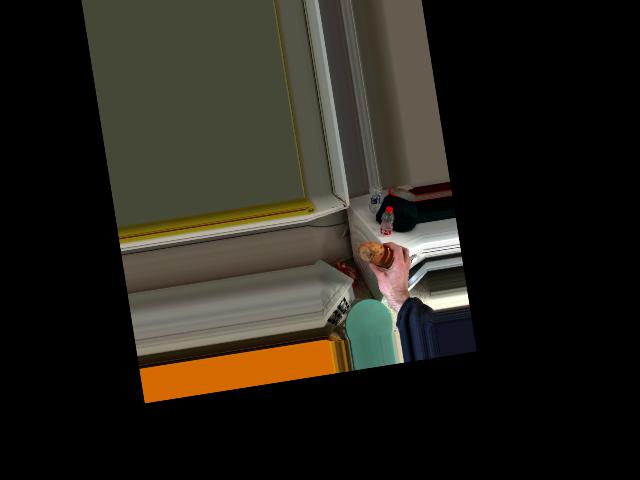sweet_potato: (362, 237, 397, 271)
